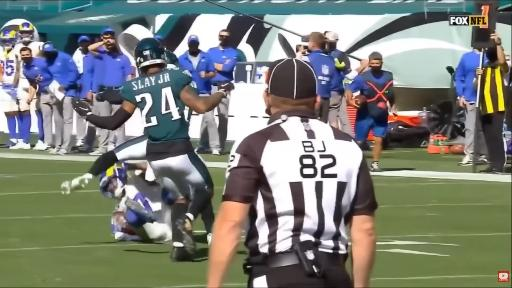Helmet: (134, 38, 166, 73), (100, 163, 127, 198), (18, 22, 34, 41), (0, 29, 16, 47), (166, 50, 178, 66)
Jersey: (121, 68, 196, 142), (117, 176, 164, 211), (0, 50, 19, 84), (14, 42, 43, 58)
Player: (74, 38, 233, 254), (100, 164, 173, 242), (0, 29, 30, 149), (14, 22, 42, 58), (15, 22, 43, 56), (154, 35, 178, 68)
